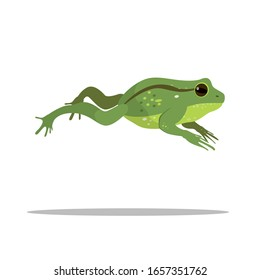animal: (34, 76, 226, 152)
